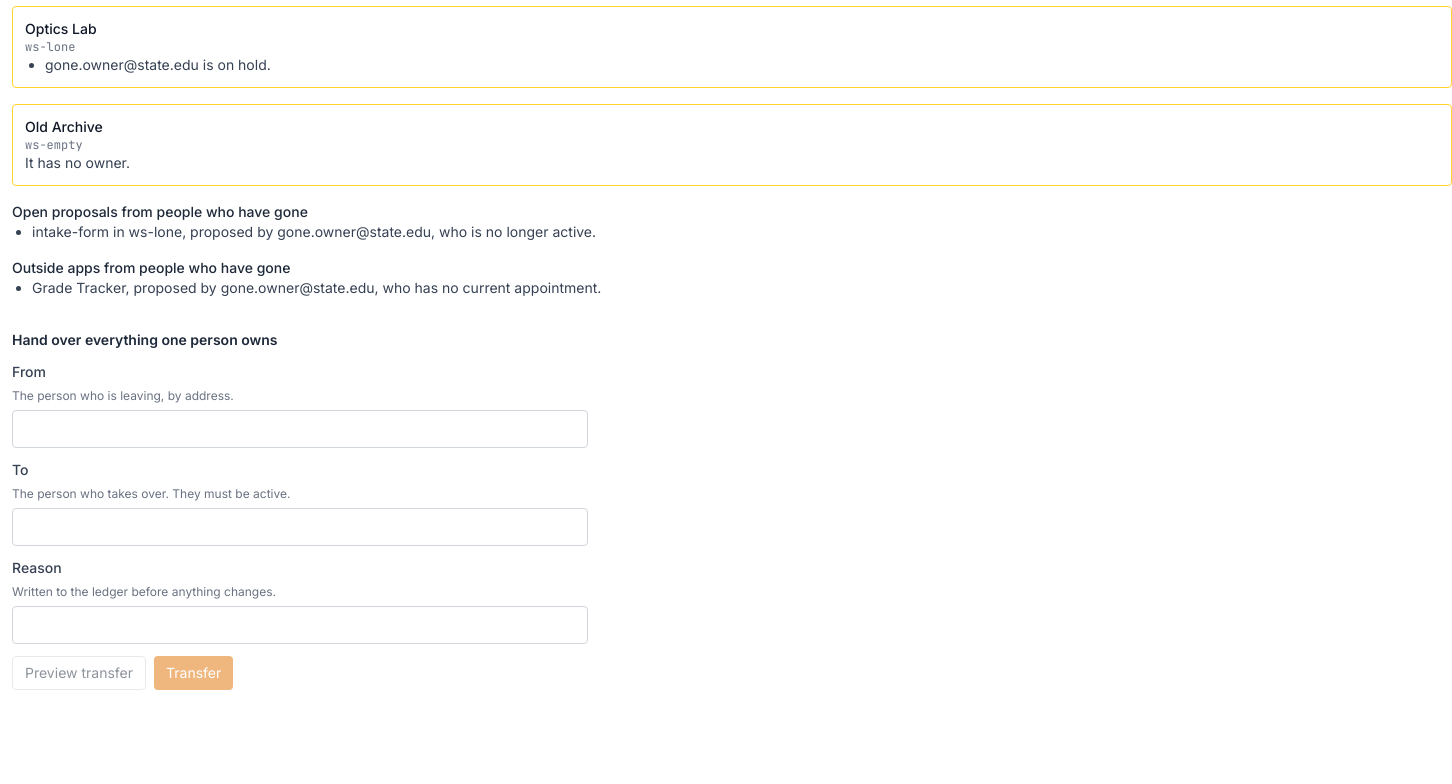
Test: Ownership › shows what the new owner gains, what the old owner loses, and what is waiting
This screenshot has width=1452, height=784.
Check: the element with test id "ownership-orphans" is shown, box [12,6,1451,298]
Type "gone.owner@state.edu" into the field labelled "From".
click(300, 429); type("gone.owner@state.edu")  # box [12,410,588,448]
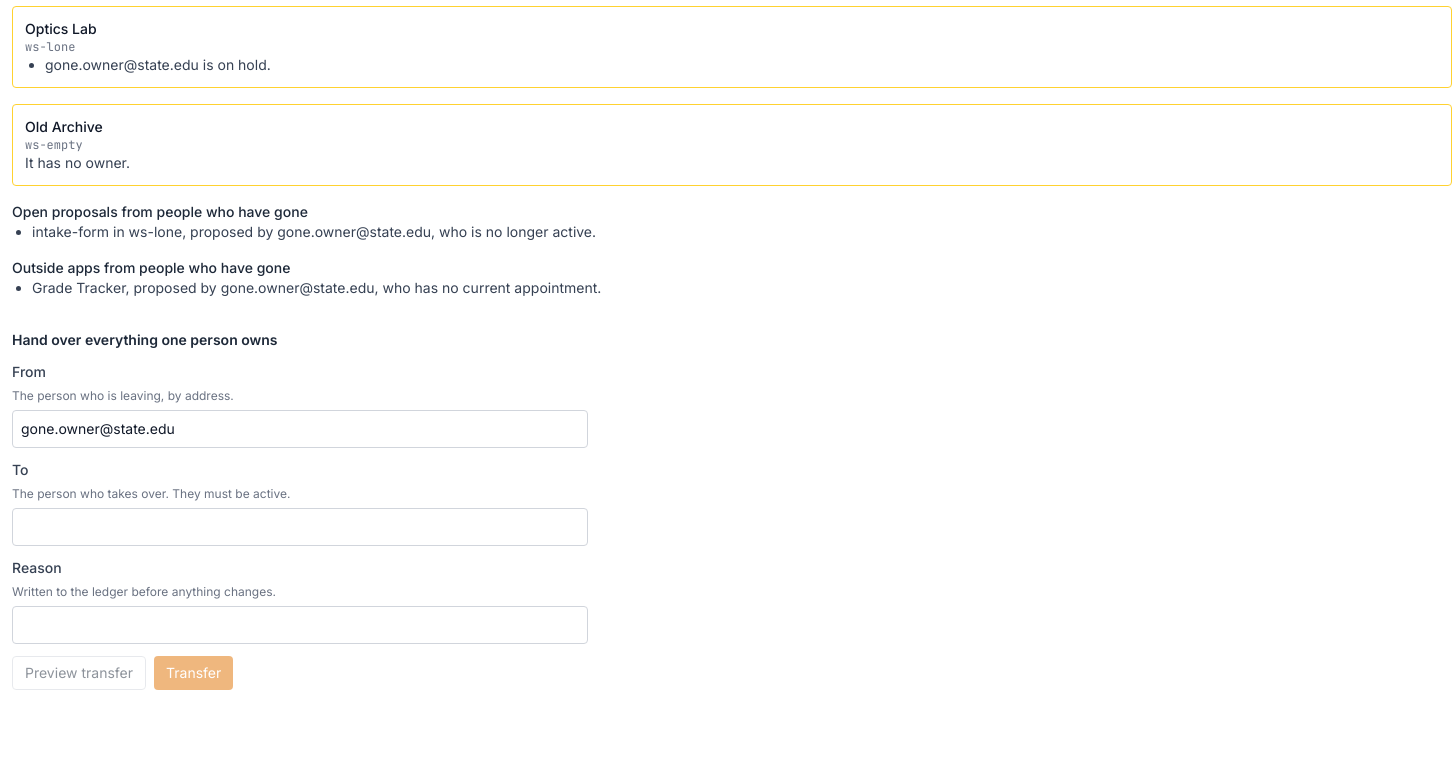
Type "new.owner@state.edu" into the field labelled "To".
click(300, 527); type("new.owner@state.edu")  # box [12,508,588,546]
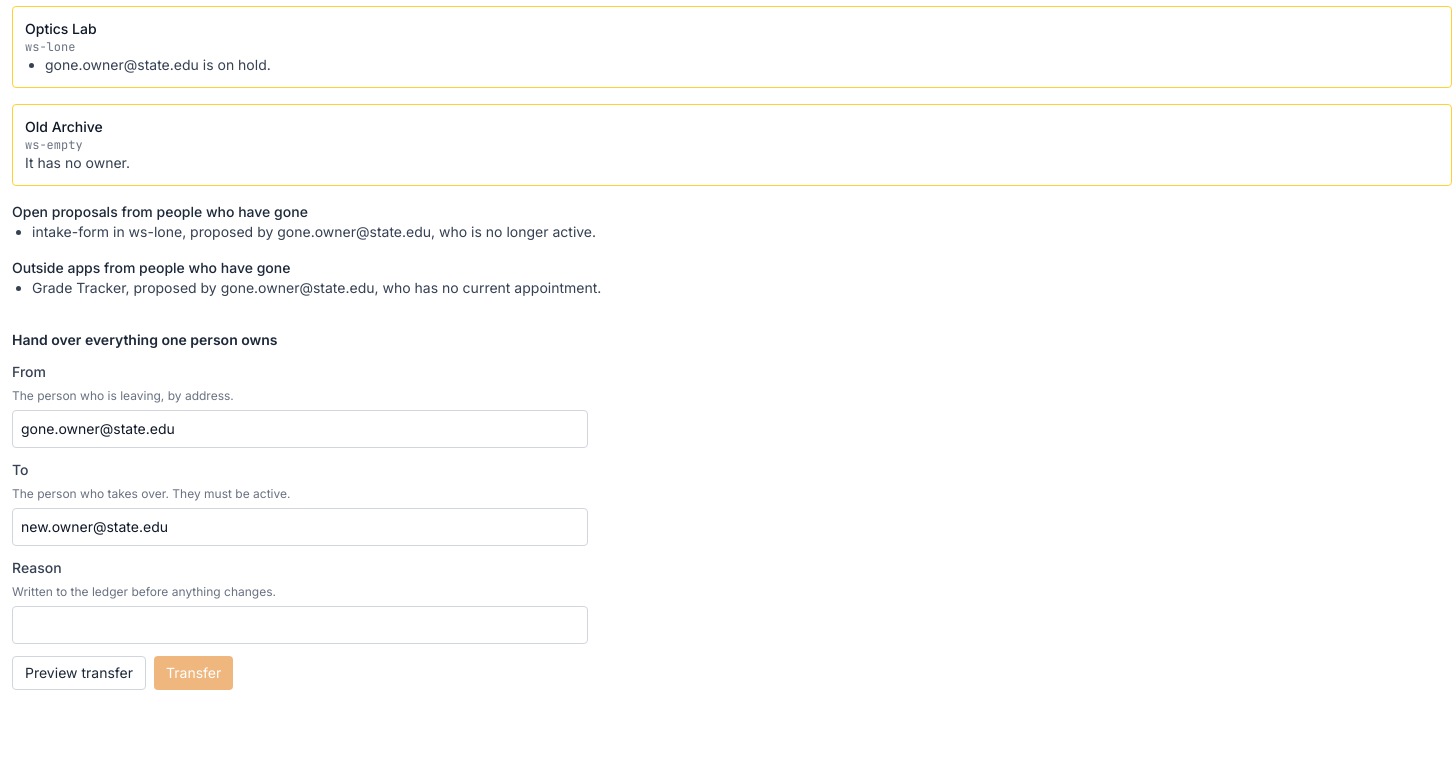
Click the button "Preview transfer".
click(79, 673)  # box [12,656,146,690]
(page scrolled)
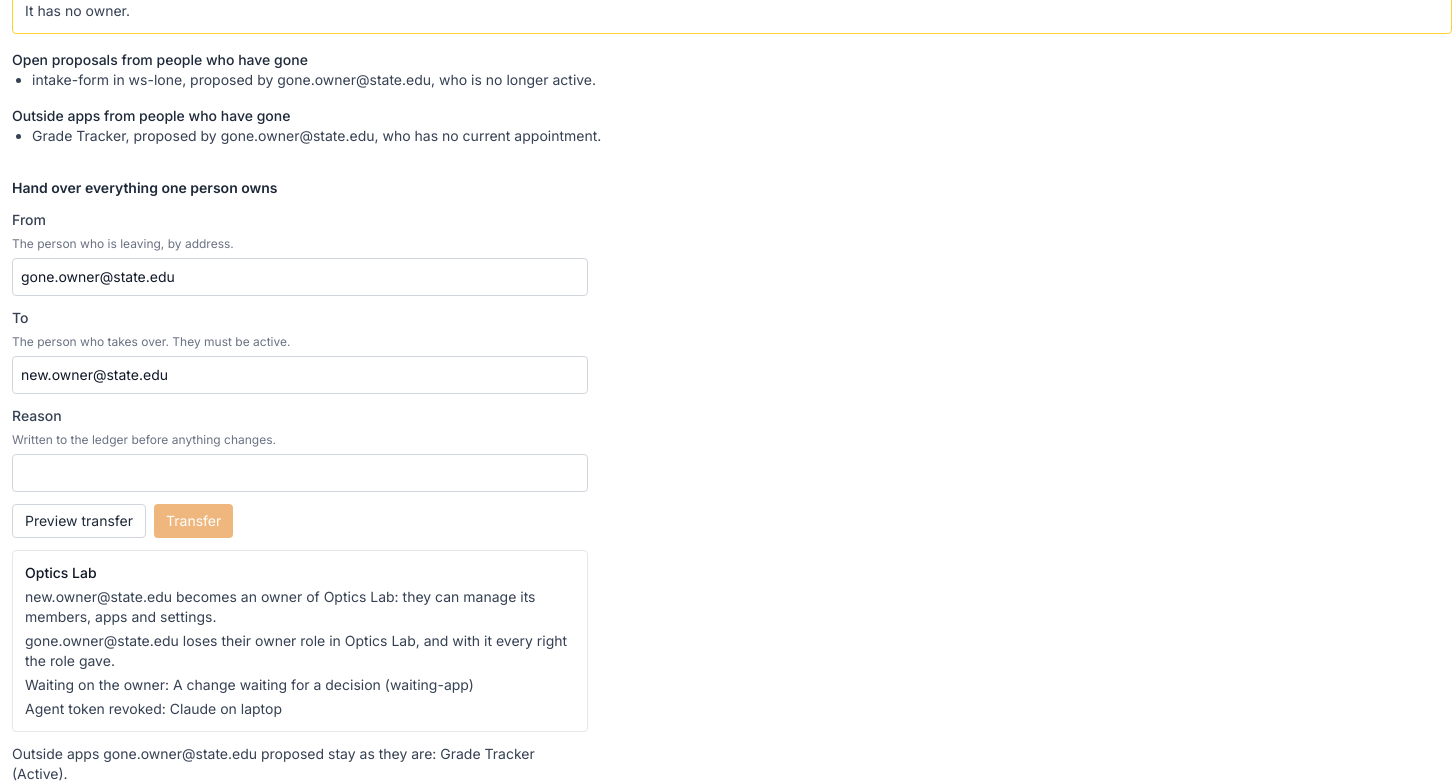
Check: the text "becomes an owner of Optics Lab" is shown, box [25,588,536,625]
Check: the text "loses their owner role in Optics Lab" is shown, box [25,632,567,669]
Check: the text "A change waiting for a decision" is shown, box [173,676,381,693]
